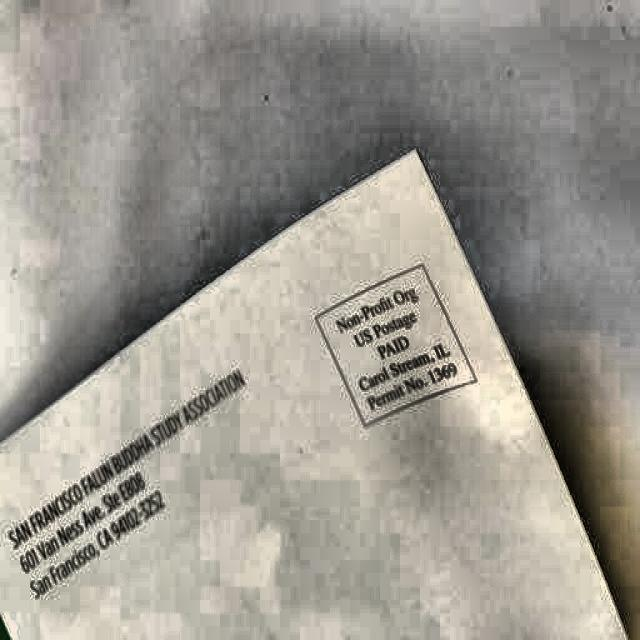paper: (6, 151, 626, 640)
